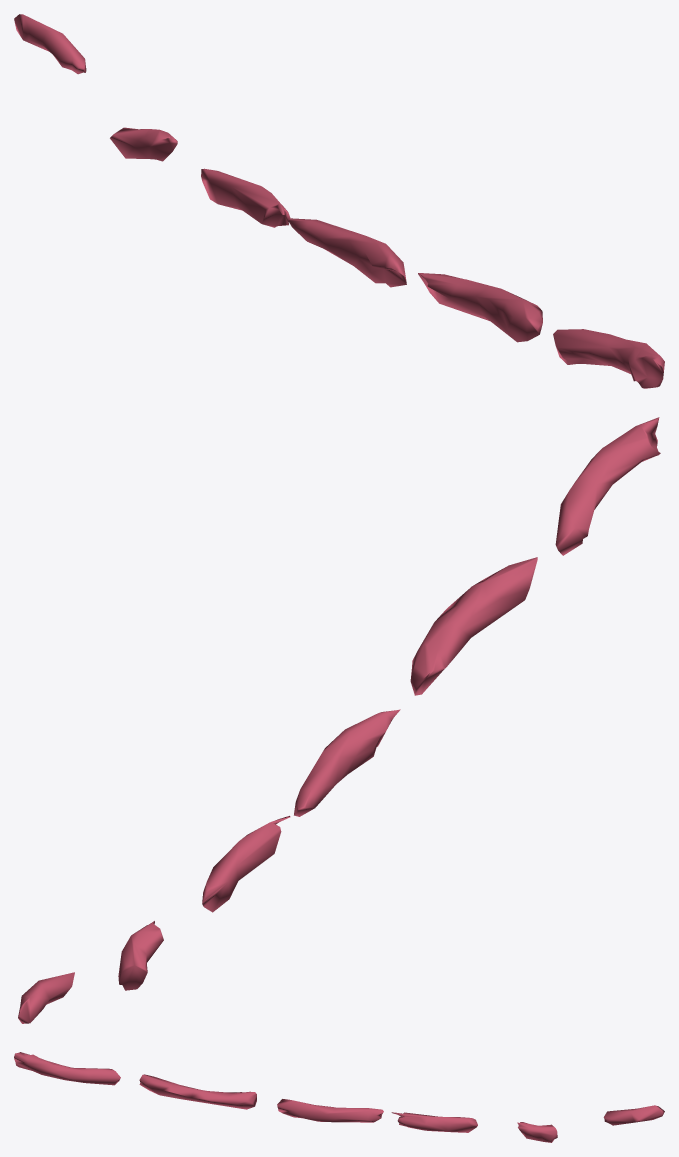
The picture shows the model from 3 angles, top to bottom: view 1: azimuth 30°, elevation 25°; view 2: azimuth 150°, elevation 25°; view 3: azimuth 270°, elevation 25°; orthographic projection. The views are drawn at different scales.
Visible parts, largest first — view 1: 左侧腰棘间肌; view 2: 左侧腰棘间肌; view 3: 左侧腰棘间肌.
Part boxes in pixels (x1,y1,x2,y2): 左侧腰棘间肌: (14, 14, 664, 388); 左侧腰棘间肌: (18, 417, 660, 1023); 左侧腰棘间肌: (14, 1052, 664, 1142).
Bounding box in the file's own units: 0.0129 × 0.0364 × 0.2362.
